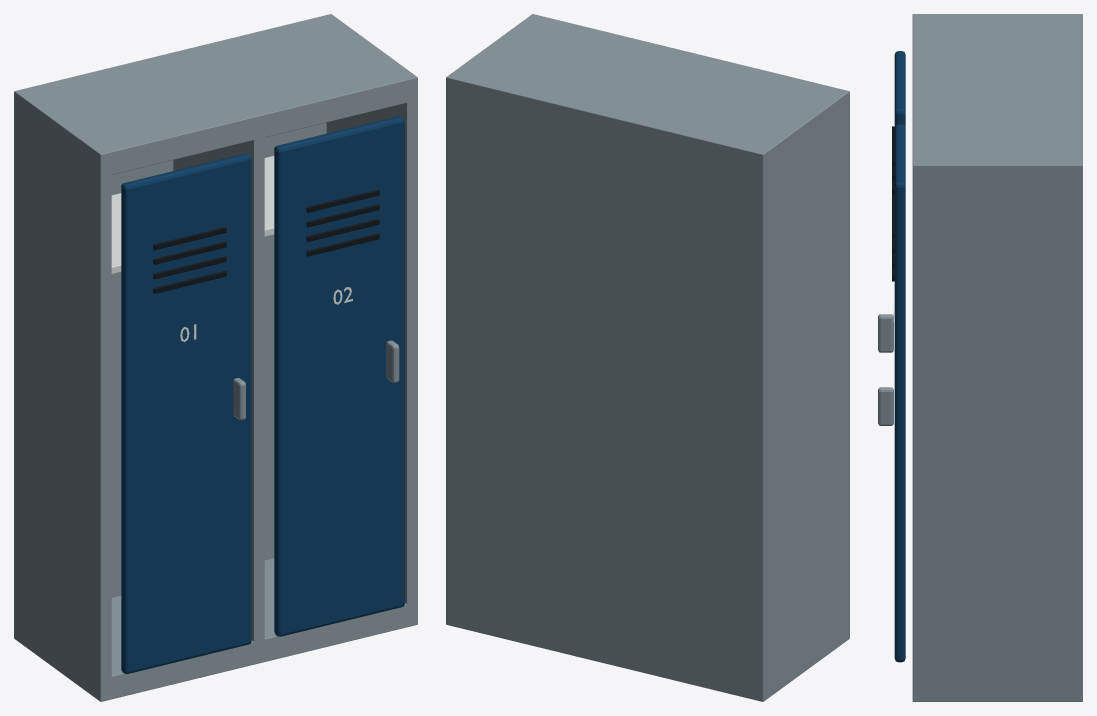
3 renders of one model, left to right at view 1: azimuth 30°, elevation 25°; view 2: azimuth 150°, elevation 25°; view 3: azimuth 270°, elevation 25°, orthographic. The views are drawn at different scales.
Visible parts, largest first — view 1: DOOR_Panel, DOOR_Panel.001, BODY_Divider.001, BODY_Plate, BODY_Back, BODY_Divider, BODY_Plate.001, BODY_Divider.002, SHELF, SHELF.001; view 2: BODY_Back, BODY_Divider.001, BODY_Plate, BODY_Divider, BODY_Divider.002, BODY_Plate.001; view 3: BODY_Divider, BODY_Plate, DOOR_Panel.001, DOOR_Panel, HANDLE.001, HANDLE, BODY_Divider.001.
Boxes of the visible parts, box(x1,y1,x2,y2) form: DOOR_Panel: box(121, 153, 251, 673); DOOR_Panel.001: box(274, 116, 404, 636); BODY_Divider.001: box(14, 90, 111, 701); BODY_Plate: box(20, 15, 411, 174); BODY_Back: box(28, 90, 326, 597); BODY_Divider: box(326, 14, 417, 627); BODY_Plate.001: box(106, 558, 407, 700); BODY_Divider.002: box(173, 93, 264, 664); SHELF: box(111, 193, 121, 273); SHELF.001: box(264, 156, 274, 236); BODY_Back: box(452, 77, 761, 700); BODY_Divider.001: box(752, 90, 849, 701); BODY_Plate: box(452, 15, 843, 175); BODY_Divider: box(446, 14, 537, 625); BODY_Divider.002: box(599, 77, 662, 662); BODY_Plate.001: box(546, 628, 757, 700); BODY_Divider: box(912, 160, 1082, 701); BODY_Plate: box(912, 16, 1082, 162); DOOR_Panel.001: box(894, 124, 905, 662); DOOR_Panel: box(894, 51, 905, 126); HANDLE.001: box(878, 387, 893, 425); HANDLE: box(878, 314, 893, 352); BODY_Divider.001: box(912, 14, 1082, 16).
Size of the model in its own units: 1.14 by 1.88 by 0.65.
